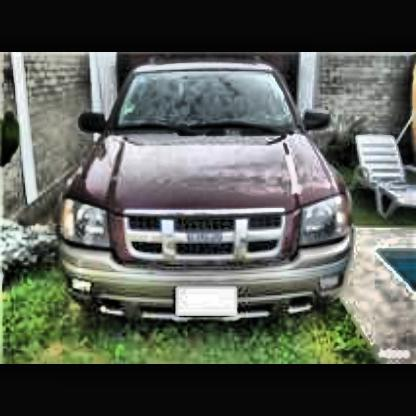Isuzu Ascender SUV 2008: (61, 68, 357, 339)
